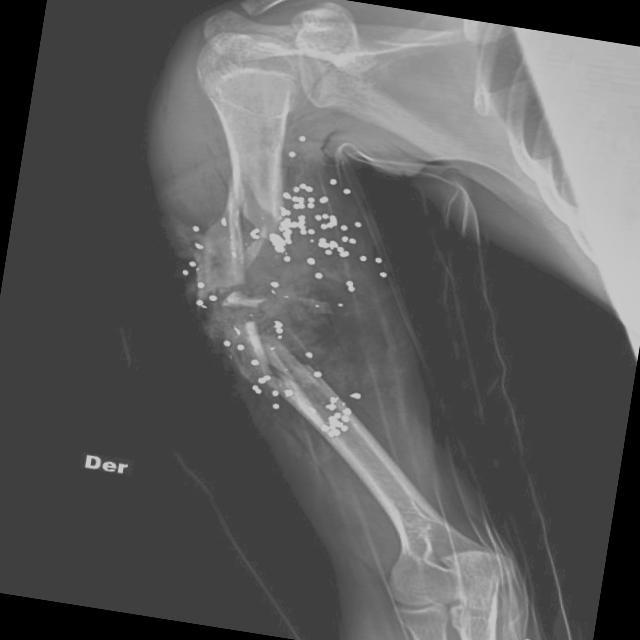Comminuted Fracture: (158, 185, 322, 397)
